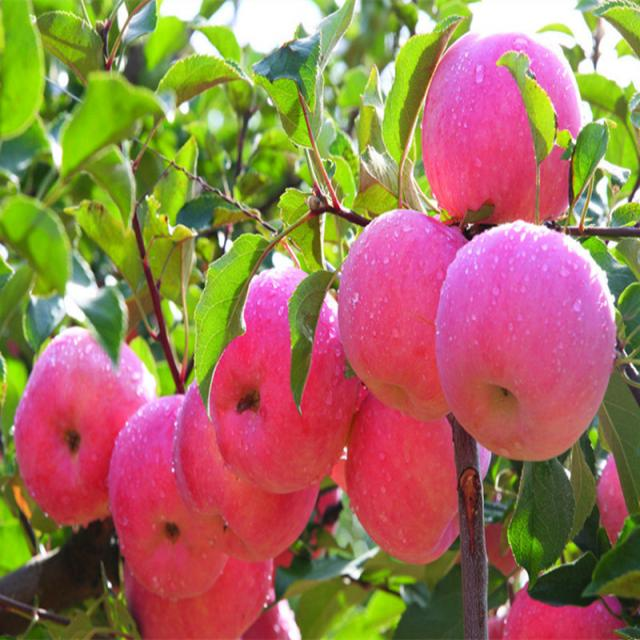Apple: (436, 225, 614, 457), (208, 266, 354, 494), (339, 208, 471, 420), (111, 394, 224, 597)
